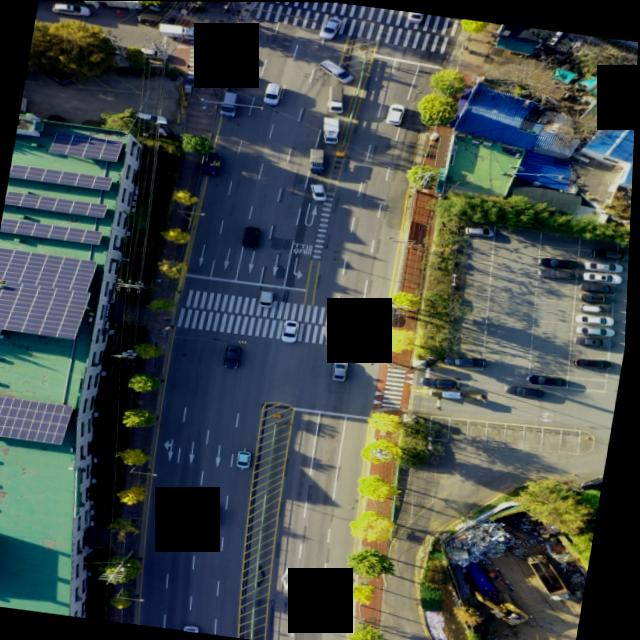car: (211, 63, 245, 90), (315, 59, 354, 80), (40, 64, 77, 86), (444, 353, 485, 370), (49, 2, 94, 17), (134, 11, 176, 27), (590, 245, 632, 261), (139, 45, 174, 64), (528, 372, 570, 387), (539, 266, 580, 281), (540, 254, 580, 269), (134, 110, 172, 125), (221, 90, 241, 118), (577, 355, 615, 369), (421, 375, 459, 389), (203, 502, 225, 526), (306, 571, 328, 595), (241, 225, 263, 249), (280, 317, 302, 341), (224, 343, 246, 367), (262, 82, 284, 106), (578, 301, 615, 315), (580, 280, 619, 293), (579, 323, 616, 336), (579, 291, 615, 304), (318, 17, 339, 39), (585, 271, 623, 283), (577, 313, 615, 325), (588, 259, 625, 271), (333, 356, 353, 378), (385, 102, 404, 124), (516, 384, 547, 397), (370, 299, 388, 321), (214, 47, 243, 60), (465, 225, 495, 237), (239, 448, 257, 467), (311, 182, 329, 200), (260, 288, 278, 306), (578, 334, 607, 345), (405, 11, 424, 24), (186, 624, 206, 632)
small_truck: (156, 22, 201, 41), (318, 114, 344, 145), (304, 145, 331, 174), (323, 83, 347, 114), (203, 151, 225, 177)
